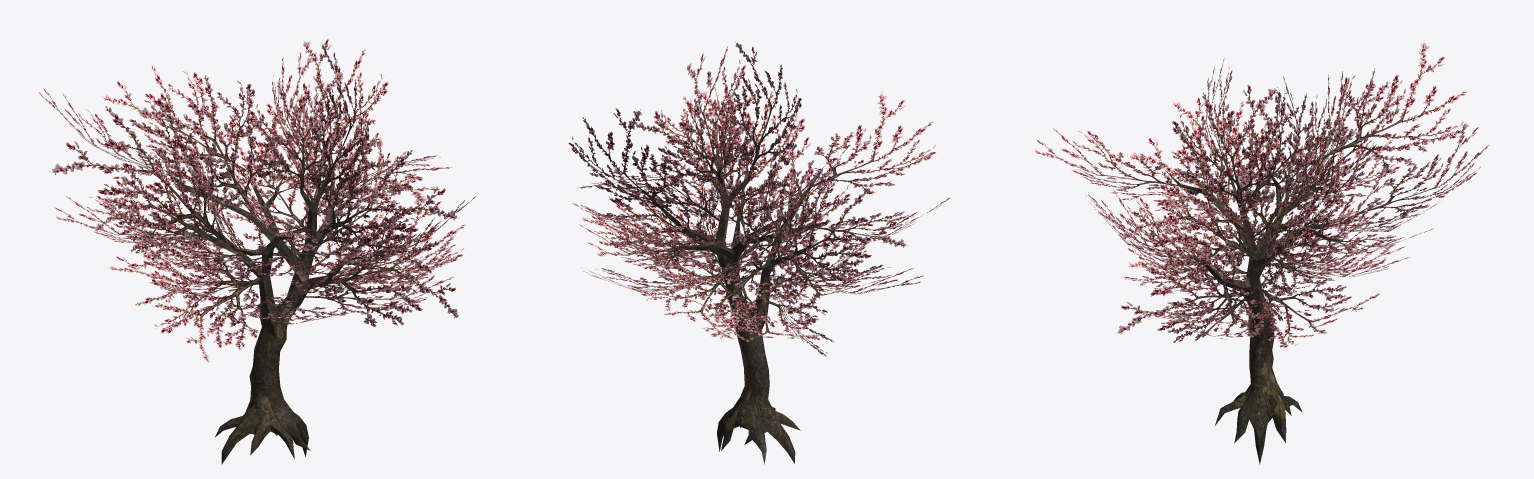
Rendered from sakura.gltf.
The picture shows the model from 3 angles, left to right: view 1: azimuth 30°, elevation 25°; view 2: azimuth 150°, elevation 25°; view 3: azimuth 270°, elevation 25°; orthographic projection. The views are drawn at different scales.
Parts seen in each view (by area): view 1: Lo-樱花树_01; view 2: Lo-樱花树_01; view 3: Lo-樱花树_01.
Boxes of the visible parts, <box> form: Lo-樱花树_01: <box>38,38,476,464</box>; Lo-樱花树_01: <box>568,41,950,464</box>; Lo-樱花树_01: <box>1034,40,1489,464</box>.
Bounding box in the file's own units: 8.49 × 8.81 × 9.9.
2 materials, 2 textured.
